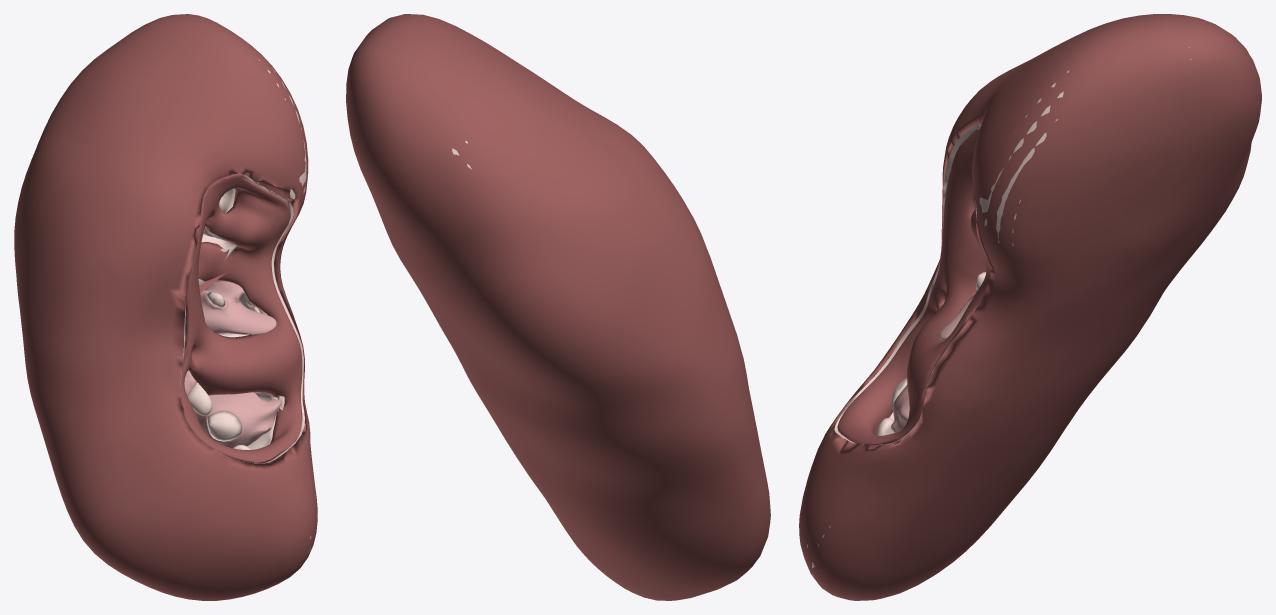
Rendered from vh_m_kidney_r-80.glb.
3 views of the same model, side by side, from view 1: azimuth 30°, elevation 25°; view 2: azimuth 150°, elevation 25°; view 3: azimuth 270°, elevation 25° (orthographic). The views are drawn at different scales.
Visible parts, largest first — view 1: VH_M_kidney_capsule_R, VH_M_hilum_of_kidney_R, VH_M_renal_pyramid_f, VH_M_renal_pyramid_h, VH_M_outer_cortex_of_kidney_R, VH_M_renal_column_R, VH_M_renal_papilla_R_h, VH_M_renal_papilla_R_g; view 2: VH_M_kidney_capsule_R; view 3: VH_M_kidney_capsule_R, VH_M_hilum_of_kidney_R, VH_M_outer_cortex_of_kidney_R, VH_M_renal_pyramid_h.
Part boxes in pixels (bbox=[...]): VH_M_kidney_capsule_R: bbox=[14, 14, 317, 600]; VH_M_hilum_of_kidney_R: bbox=[180, 173, 302, 463]; VH_M_renal_pyramid_f: bbox=[200, 281, 276, 334]; VH_M_renal_pyramid_h: bbox=[197, 392, 280, 448]; VH_M_outer_cortex_of_kidney_R: bbox=[89, 59, 317, 564]; VH_M_renal_column_R: bbox=[198, 188, 278, 449]; VH_M_renal_papilla_R_h: bbox=[207, 410, 242, 441]; VH_M_renal_papilla_R_g: bbox=[188, 382, 212, 415]; VH_M_kidney_capsule_R: bbox=[346, 14, 770, 600]; VH_M_kidney_capsule_R: bbox=[799, 14, 1261, 600]; VH_M_hilum_of_kidney_R: bbox=[837, 128, 990, 445]; VH_M_outer_cortex_of_kidney_R: bbox=[807, 47, 1191, 575]; VH_M_renal_pyramid_h: bbox=[891, 384, 909, 432].
Bounding box in the file's own units: 0.0655 × 0.1125 × 0.0764.
